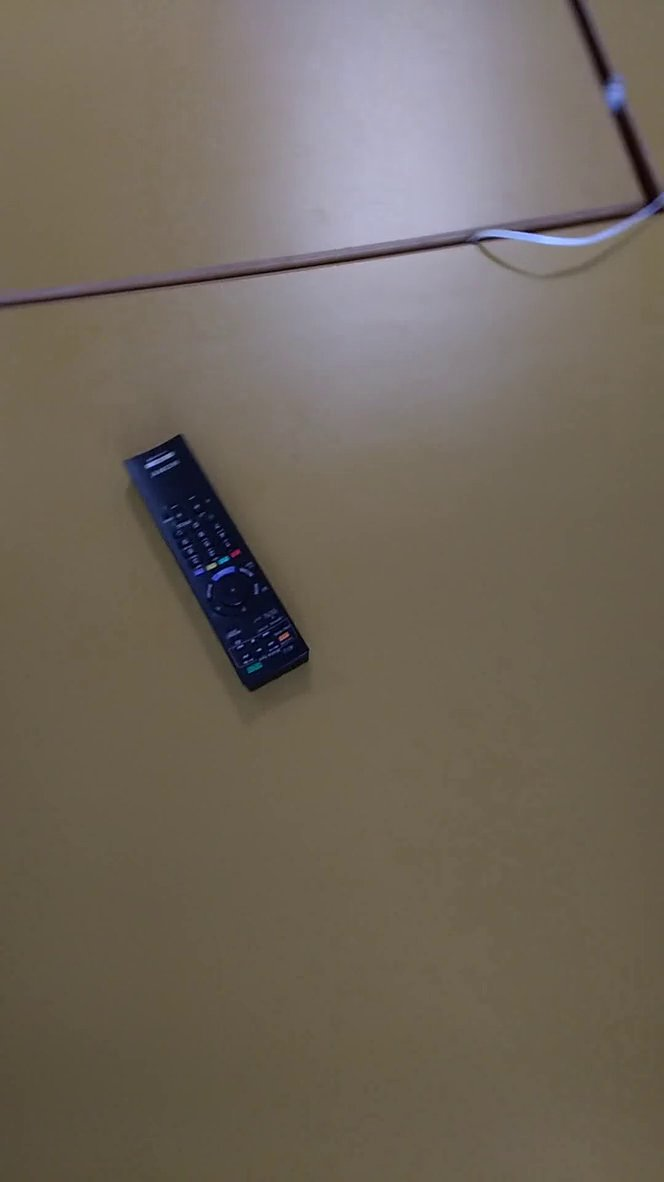remote: (113, 418, 318, 705)
